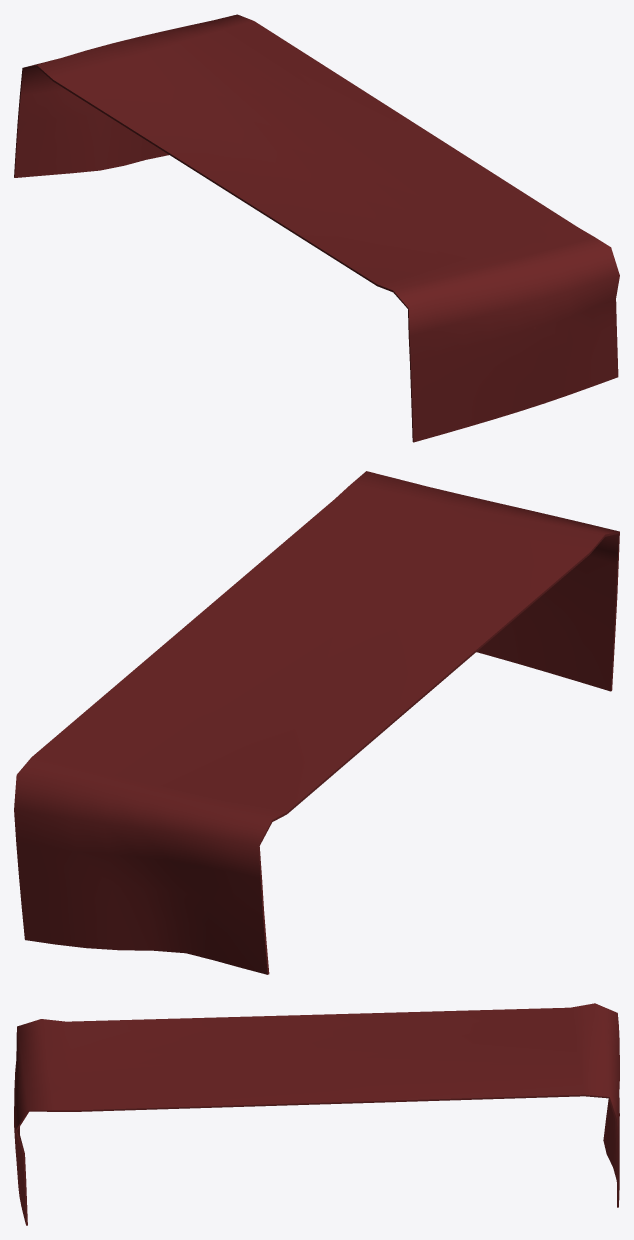
Rendered from table_cloth.obj.
3 renders of one model, top to bottom at view 1: azimuth 30°, elevation 25°; view 2: azimuth 150°, elevation 25°; view 3: azimuth 270°, elevation 25°, orthographic. The views are drawn at different scales.
Visible parts, largest first — view 1: tablecloth_Plane.004; view 2: tablecloth_Plane.004; view 3: tablecloth_Plane.004.
Part boxes in pixels (left/top/right/bottom): tablecloth_Plane.004: left=14, top=14, right=619, bottom=442; tablecloth_Plane.004: left=14, top=471, right=619, bottom=974; tablecloth_Plane.004: left=14, top=1003, right=619, bottom=1225.
Size of the model in its own units: 0.7216 by 0.3798 by 1.66.
Materials: 1 (1 with a texture image).
